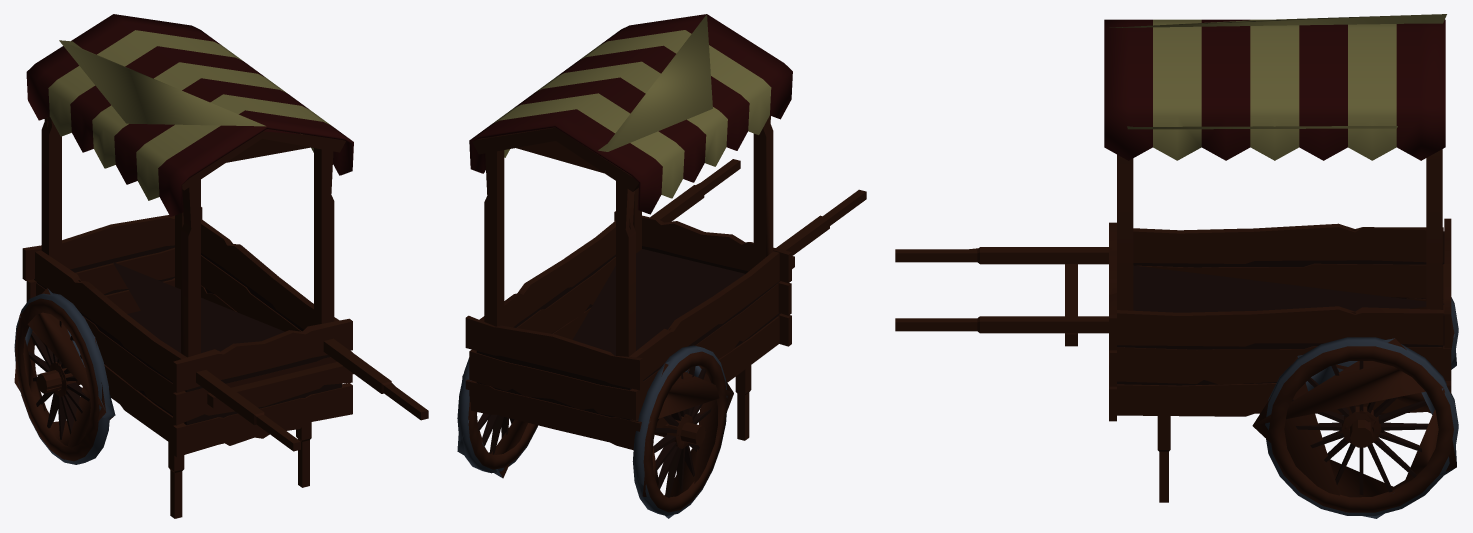
Rendered from Cart.fbx.
The picture shows the model from 3 angles, left to right: view 1: azimuth 30°, elevation 25°; view 2: azimuth 150°, elevation 25°; view 3: azimuth 270°, elevation 25°; orthographic projection. The views are drawn at different scales.
Visible parts, largest first — view 1: High_Cart, Low_Cart; view 2: High_Cart, Low_Cart; view 3: High_Cart, Low_Cart.
Boxes of the visible parts, x1,y1,x2,y2 form: High_Cart: [14, 14, 428, 518]; Low_Cart: [14, 40, 394, 459]; High_Cart: [457, 14, 866, 515]; Low_Cart: [457, 14, 745, 518]; High_Cart: [895, 19, 1458, 515]; Low_Cart: [969, 14, 1456, 518].
Bounding box in the file's own units: 46.2 × 80.96 × 92.74.
